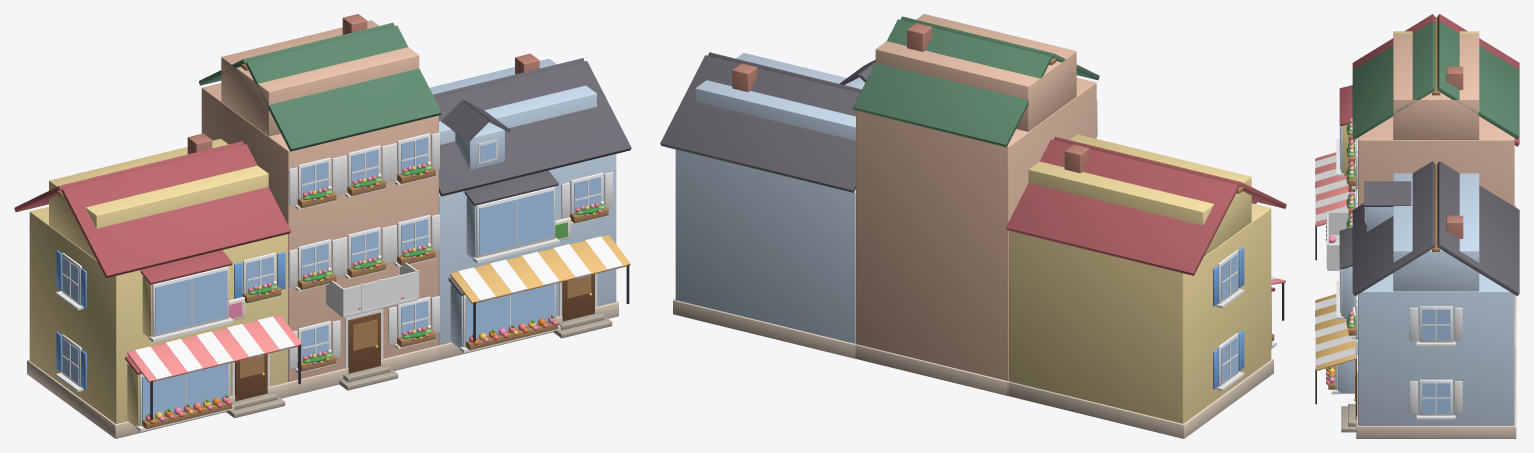
File: terrace_d.glb
3 views of the same model, side by side, from view 1: azimuth 30°, elevation 25°; view 2: azimuth 150°, elevation 25°; view 3: azimuth 270°, elevation 25° (orthographic). The views are drawn at different scales.
Visible parts, largest first — view 1: terrace_d; view 2: terrace_d; view 3: terrace_d.
Boxes of the visible parts, box(x1,y1,x2,y2) form: terrace_d: box(14, 14, 631, 438); terrace_d: box(660, 14, 1286, 438); terrace_d: box(1315, 14, 1519, 438).
Bounding box in the file's own units: 19.6 × 10.95 × 7.32.
